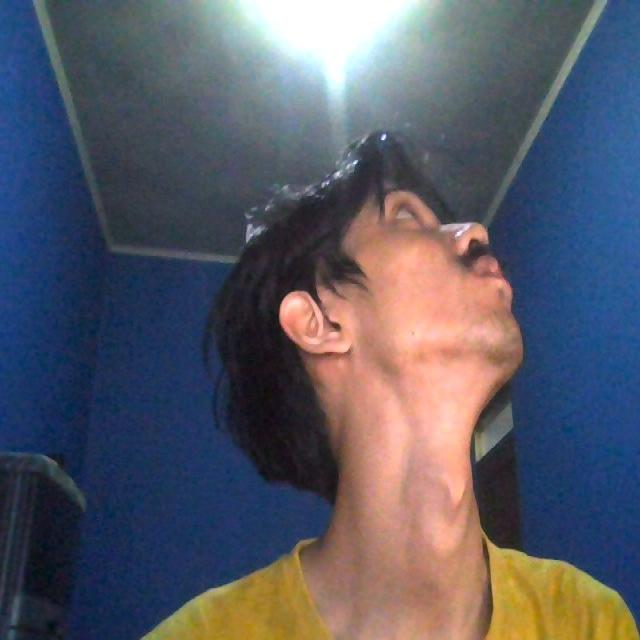melihat kekiri: (213, 145, 552, 477)
